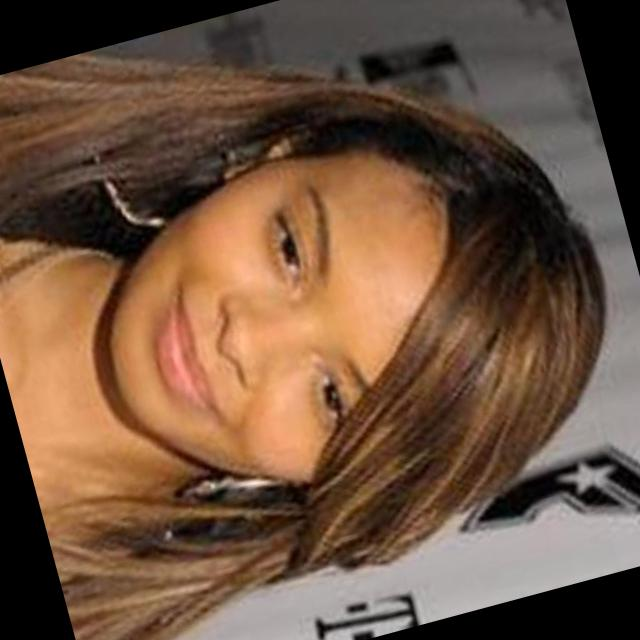bareface: (43, 29, 625, 580)
